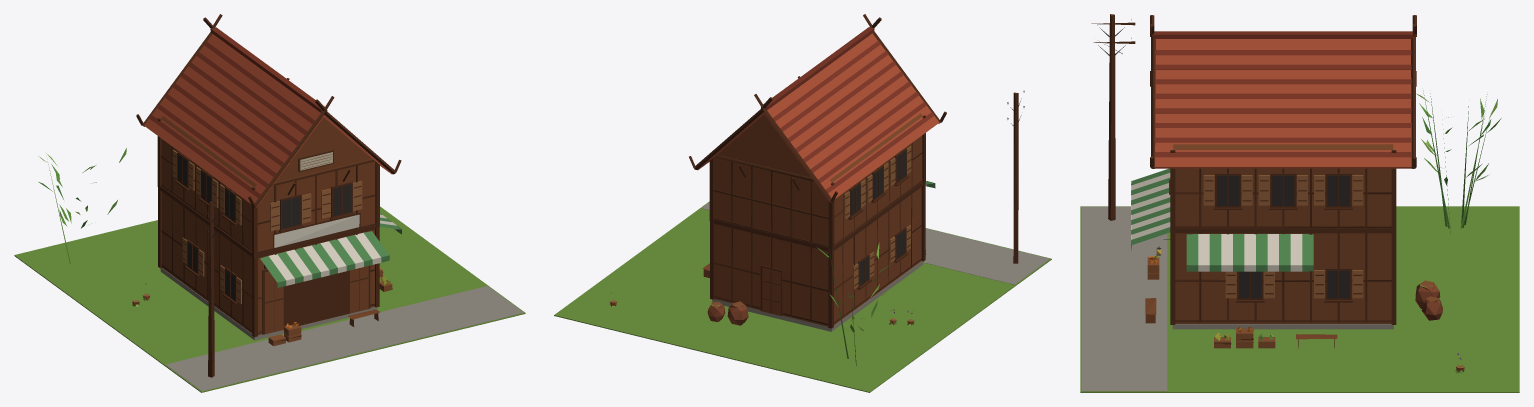
Rendered from shop_1.glb.
3 views of the same model, side by side, from view 1: azimuth 30°, elevation 25°; view 2: azimuth 150°, elevation 25°; view 3: azimuth 270°, elevation 25° (orthographic). The views are drawn at different scales.
Visible parts, largest first — view 1: body, windows; view 2: body, windows; view 3: body, windows.
Boxes of the visible parts, x1=… form: body: x1=14, y1=14, x2=525, y2=392; windows: x1=178, y1=154, x2=351, y2=299; body: x1=554, y1=14, x2=1051, y2=392; windows: x1=851, y1=151, x2=906, y2=285; body: x1=1080, y1=14, x2=1519, y2=392; windows: x1=1156, y1=175, x2=1349, y2=298.
Bounding box in the file's own units: 15.9 × 11.23 × 15.9.
